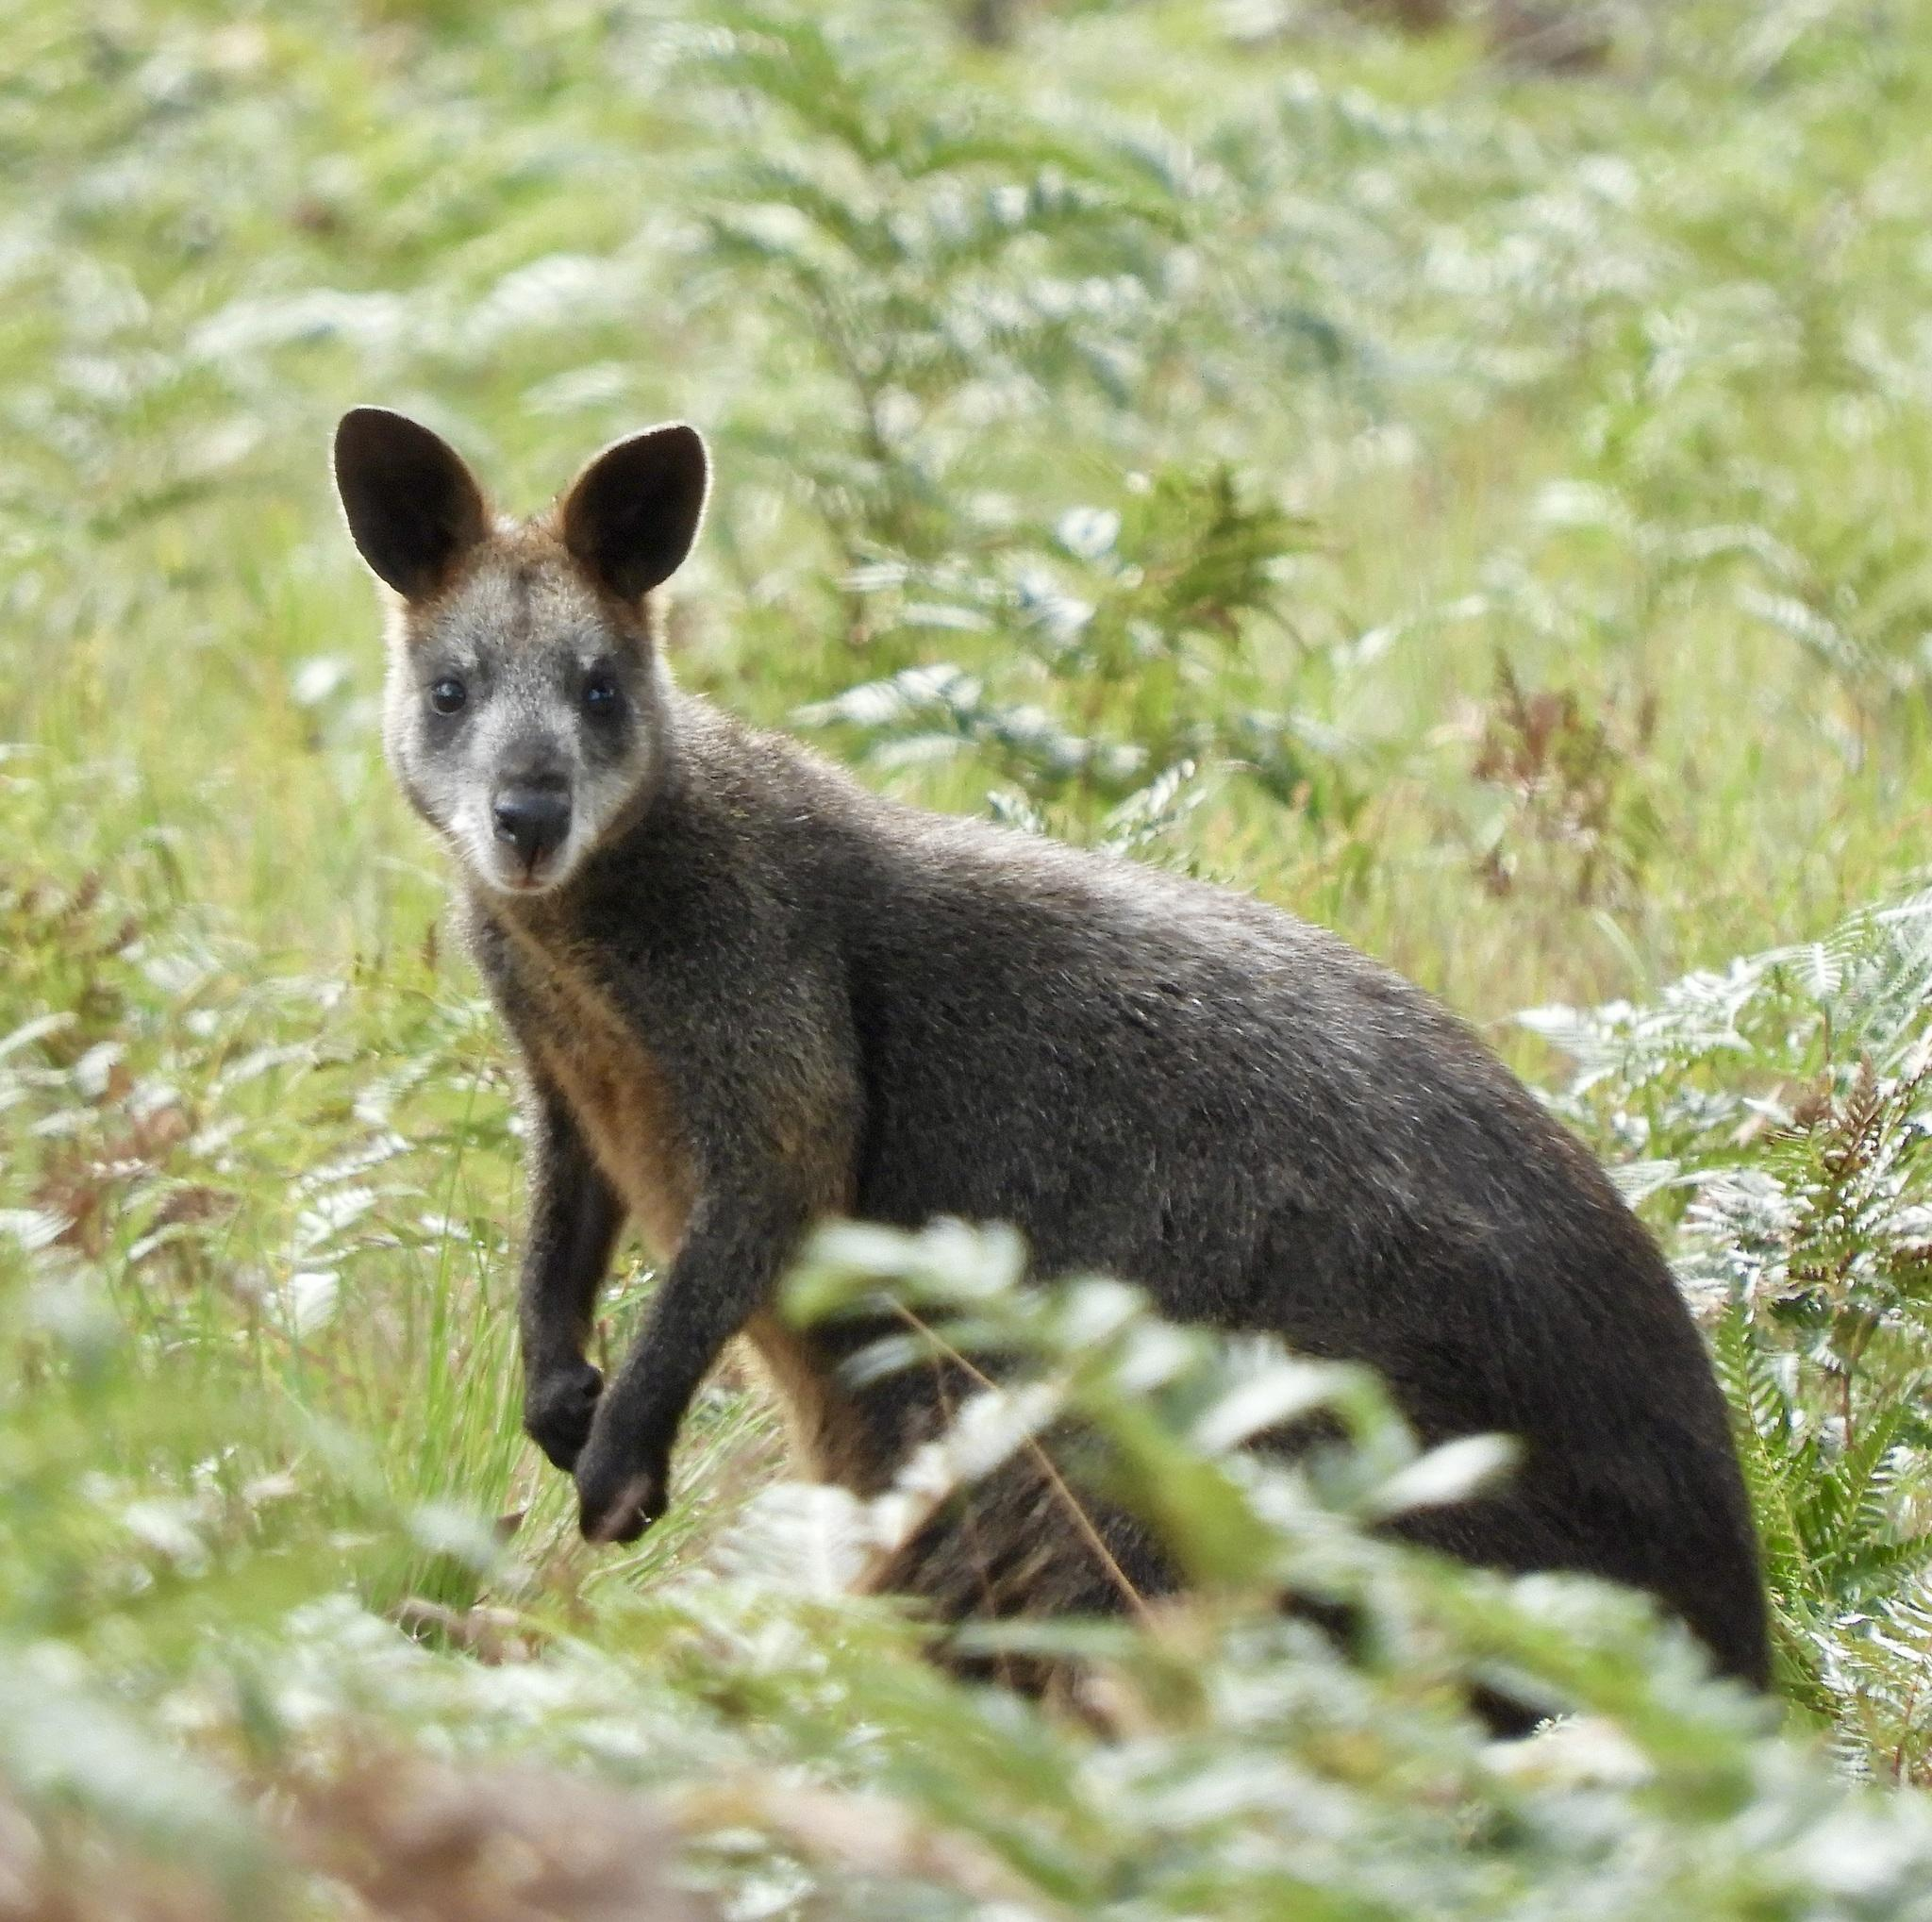Swamp wallaby: (331, 407, 1781, 1767)
